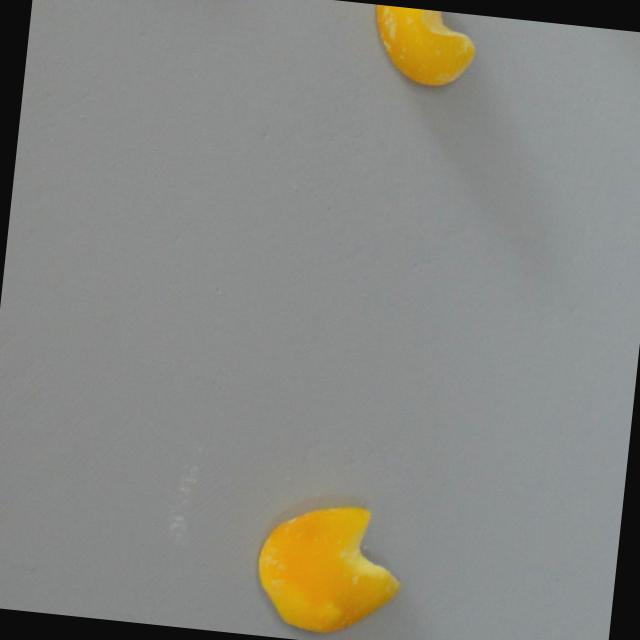pelicula: (251, 495, 412, 640), (368, 4, 479, 92)
